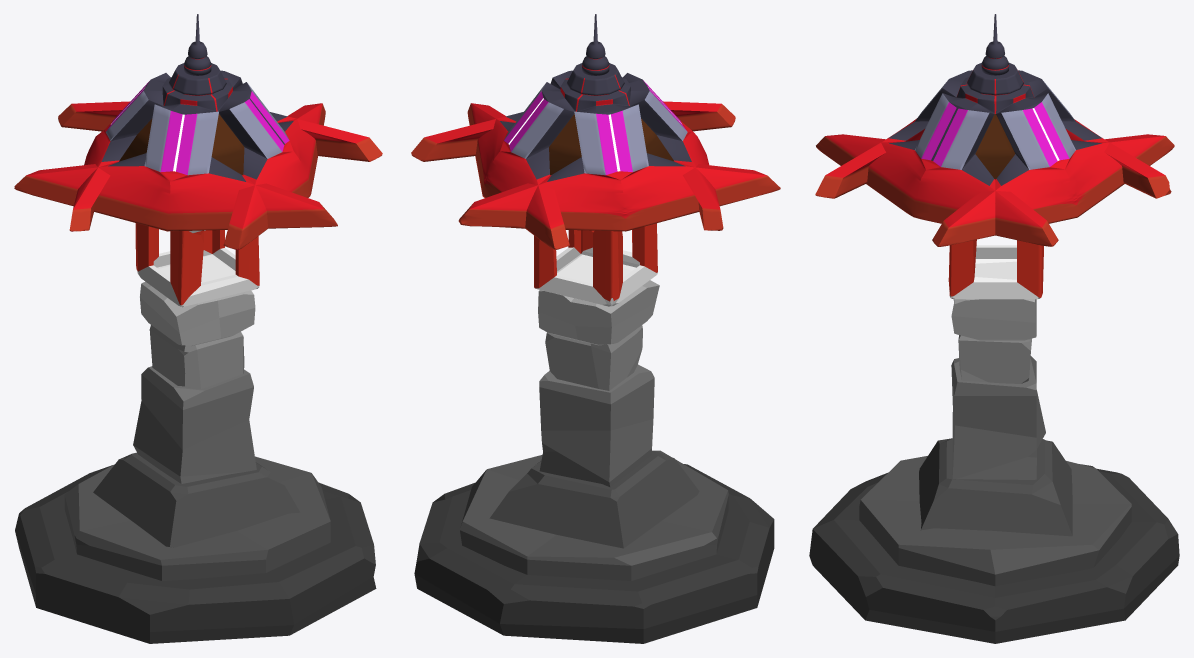
Rendered from Shrine_1 (1).fbx.
3 views of the same model, side by side, from view 1: azimuth 30°, elevation 25°; view 2: azimuth 150°, elevation 25°; view 3: azimuth 270°, elevation 25° (orthographic).
Visible parts, largest first — view 1: Cube.008, Cube.005, Cube.006, Cube.001, Cube.002, Cube.007, Cube.004, Cube.003, Cylinder; view 2: Cube.008, Cube.005, Cube.006, Cube.001, Cube.002, Cube.007, Cube.004, Cube.003, Cylinder; view 3: Cube.008, Cube.005, Cube.006, Cube.001, Cube.002, Cube.007, Cube.004, Cube.003, Cylinder.
Part boxes in pixels (x1,y1,x2,y2): Cube.008: (14,63,382,249); Cube.005: (15,465,376,643); Cube.006: (64,456,330,580); Cube.001: (93,452,300,547); Cube.002: (133,366,256,483); Cube.007: (135,223,259,307); Cube.004: (140,281,255,346); Cube.003: (149,325,244,389); Cylinder: (184,14,211,75); Cube.008: (411,63,780,249); Cube.005: (414,464,774,643); Cube.006: (460,450,728,580); Cube.001: (489,450,699,548); Cube.002: (539,364,654,487); Cube.007: (534,223,657,306); Cube.004: (538,280,659,345); Cube.003: (545,325,642,390); Cylinder: (582,14,609,75); Cube.008: (815,62,1174,246); Cube.005: (809,468,1179,643); Cube.006: (859,456,1131,586); Cube.001: (919,438,1072,536); Cube.002: (951,356,1045,479); Cube.007: (948,239,1043,299); Cube.004: (951,299,1036,340); Cube.003: (958,335,1031,383); Cylinder: (981,14,1008,75).
Size of the model in its own units: 3.54 by 5.8 by 3.53.
